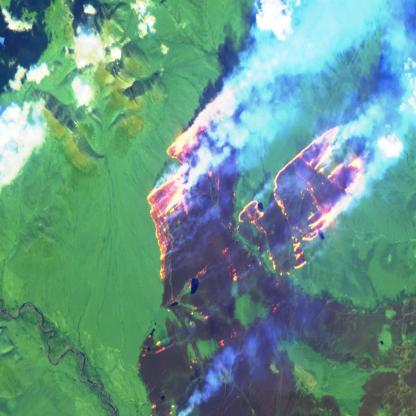fire: (143, 105, 372, 293)
